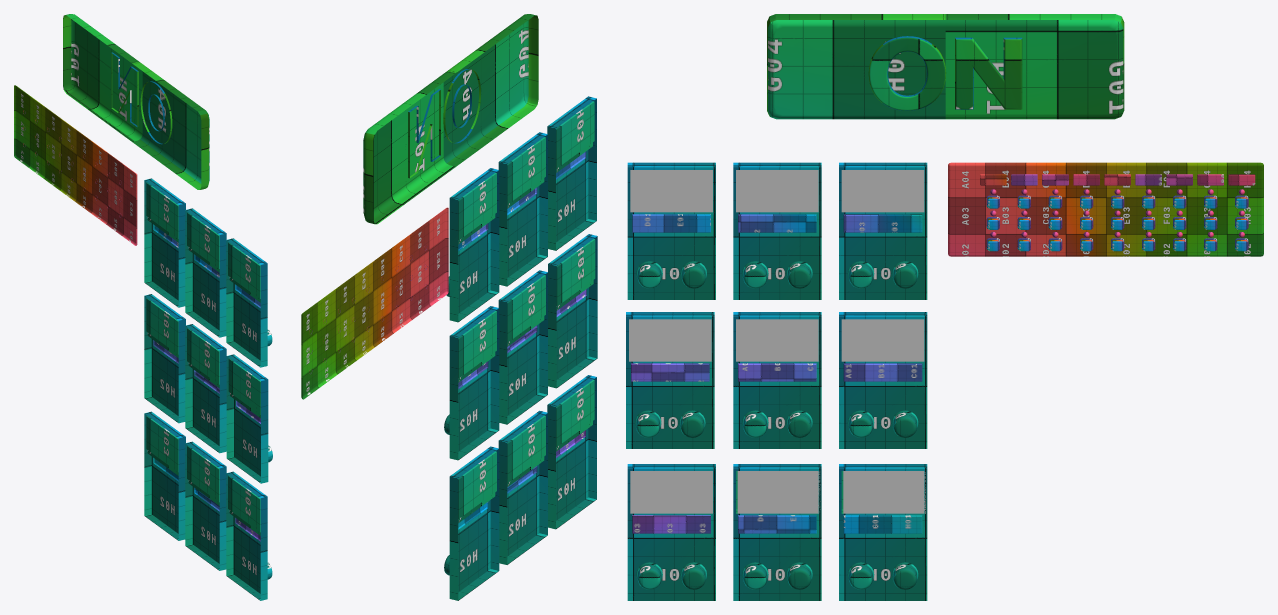
The model's file is Button01_GA.fbx.
The picture shows the model from 3 angles, left to right: view 1: azimuth 30°, elevation 25°; view 2: azimuth 150°, elevation 25°; view 3: azimuth 270°, elevation 25°; orthographic projection. The views are drawn at different scales.
Parts seen in each view (by area): view 1: polySurface10558; view 2: polySurface10558; view 3: polySurface10558, polySurface10573.
Boxes of the visible parts, <box> form: polySurface10558: <box>14,14,272,600</box>; polySurface10558: <box>301,14,597,600</box>; polySurface10558: <box>626,14,1263,600</box>; polySurface10573: <box>629,170,925,513</box>.
Size of the model in its own units: 5.12 by 98.96 by 98.79.
